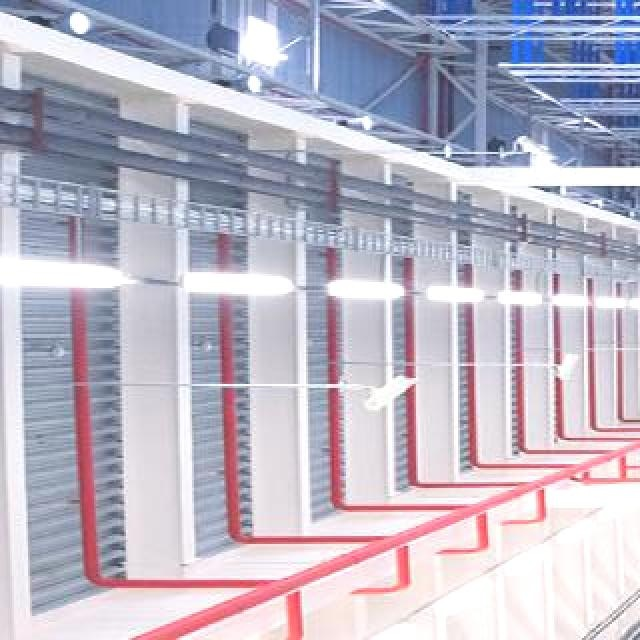fluorescent tube: (165, 245, 295, 307), (0, 249, 133, 300), (318, 254, 404, 314), (424, 265, 500, 311), (483, 289, 541, 316)
